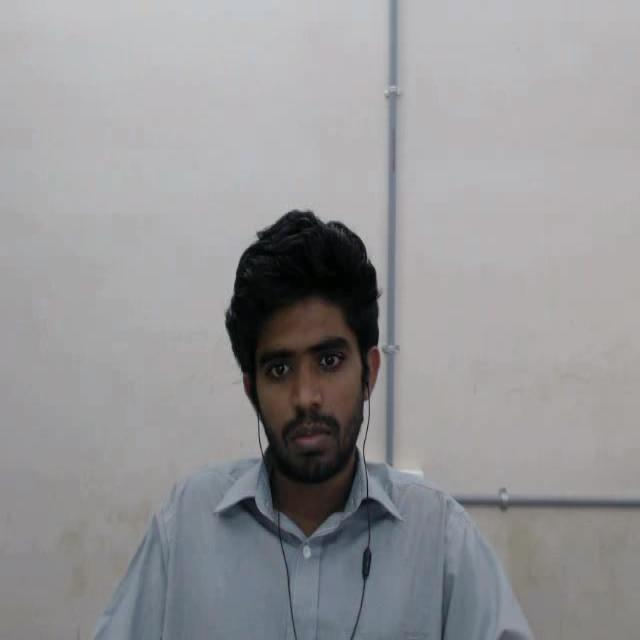Engaged: (225, 194, 400, 550)
